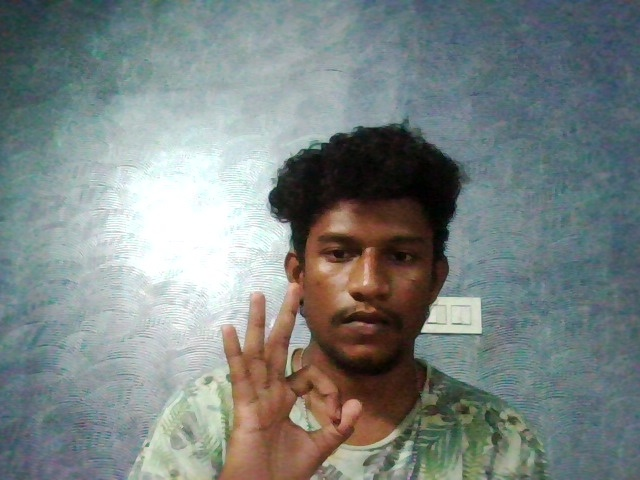good: (162, 273, 392, 480)
